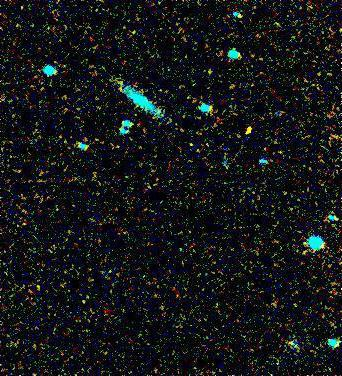star: (234, 115, 264, 145)
